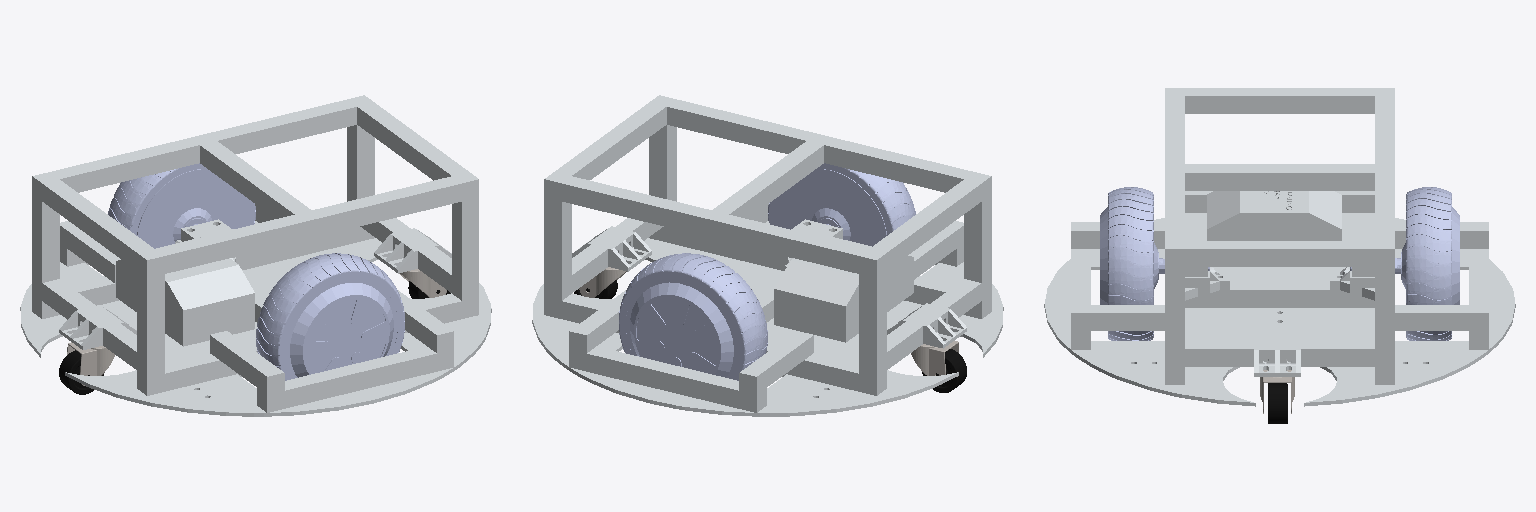
robot.urdf — modeloIsmo:
<?xml version="1.0" encoding="utf-8"?>
<!-- This URDF was automatically created by SolidWorks to URDF Exporter! Originally created by [author] ([email redacted]) 
     Commit Version: 1.6.0-4-g7f85cfe  Build Version: 1.6.7995.38578
     For more information, please see http://wiki.ros.org/sw_urdf_exporter -->
<robot
  name="modeloIsmo">
  <link
    name="base_link">
    <inertial>
      <origin
        xyz="-0.0176561649332988 -0.00119978537611564 0.0278893006013416"
        rpy="0 0 0" />
      <mass
        value="2.87613876945507" />
      <inertia
        ixx="0.0264142141588292"
        ixy="2.97958619881934E-08"
        ixz="-4.01911037621279E-08"
        iyy="0.0337096586279081"
        iyz="-0.000151931353131123"
        izz="0.0586642095498389" />
    </inertial>
    <visual>
      <origin
        xyz="0 0 0"
        rpy="0 0 0" />
      <geometry>
        <mesh
          filename="package://modeloIsmo/meshes/base_link.STL" />
      </geometry>
      <material
        name="">
        <color
          rgba="0.894117647058823 0.913725490196078 0.929411764705882 1" />
      </material>
    </visual>
    <collision>
      <origin
        xyz="0 0 0"
        rpy="0 0 0" />
      <geometry>
        <mesh
          filename="package://modeloIsmo/meshes/base_link.STL" />
      </geometry>
    </collision>
  </link>
  <link
    name="left_wheel">
    <inertial>
      <origin
        xyz="-3.14330033453561E-06 -6.5673863186063E-06 0.0291446115167832"
        rpy="0 0 0" />
      <mass
        value="0.958008205459542" />
      <inertia
        ixx="0.00158534602463517"
        ixy="1.36072608890669E-08"
        ixz="1.65486211393434E-07"
        iyy="0.00158536794192628"
        iyz="3.4575503784655E-07"
        izz="0.0027026878956097" />
    </inertial>
    <visual>
      <origin
        xyz="0 0 0"
        rpy="0 0 0" />
      <geometry>
        <mesh
          filename="package://modeloIsmo/meshes/left_wheel.STL" />
      </geometry>
      <material
        name="">
        <color
          rgba="0.792156862745098 0.819607843137255 0.933333333333333 1" />
      </material>
    </visual>
    <collision>
      <origin
        xyz="0 0 0"
        rpy="0 0 0" />
      <geometry>
        <mesh
          filename="package://modeloIsmo/meshes/left_wheel.STL" />
      </geometry>
    </collision>
  </link>
  <joint
    name="leftwheel_joint"
    type="continuous">
    <origin
      xyz="0 0.18 0.022"
      rpy="1.5708 0 0" />
    <parent
      link="base_link" />
    <child
      link="left_wheel" />
    <axis
      xyz="0 0 -1" />
    <limit
      effort="6.5"
      velocity="40" />
    <dynamics
      friction="0.1" />
  </joint>
  <link
    name="right_wheel">
    <inertial>
      <origin
        xyz="9.03817139394358E-08 -7.28029456295576E-06 -0.0291446514181855"
        rpy="0 0 0" />
      <mass
        value="0.95800858734738" />
      <inertia
        ixx="0.00158533951727554"
        ixy="-4.33732580157848E-10"
        ixz="4.75834716119835E-09"
        iyy="0.00158537444928592"
        iyz="-3.83287868957538E-07"
        izz="0.0027026878956097" />
    </inertial>
    <visual>
      <origin
        xyz="0 0 0"
        rpy="0 0 0" />
      <geometry>
        <mesh
          filename="package://modeloIsmo/meshes/right_wheel.STL" />
      </geometry>
      <material
        name="">
        <color
          rgba="0.792156862745098 0.819607843137255 0.933333333333333 1" />
      </material>
    </visual>
    <collision>
      <origin
        xyz="0 0 0"
        rpy="0 0 0" />
      <geometry>
        <mesh
          filename="package://modeloIsmo/meshes/right_wheel.STL" />
      </geometry>
    </collision>
  </link>
  <joint
    name="rightwheel_joint"
    type="continuous">
    <origin
      xyz="0 -0.18 0.022"
      rpy="1.5708 0 0" />
    <parent
      link="base_link" />
    <child
      link="right_wheel" />
    <axis
      xyz="0 0 -1" />
    <limit
      effort="6.5"
      velocity="40" />
    <dynamics
      friction="0.1" />
  </joint>
  <link
    name="front_caster">
    <inertial>
      <origin
        xyz="0.00719645182828996 5.27849148379703E-05 -0.0129869427741275"
        rpy="0 0 0" />
      <mass
        value="0.0345228972247051" />
      <inertia
        ixx="8.7256705327778E-06"
        ixy="1.6376475932055E-09"
        ixz="1.70393496562884E-06"
        iyy="8.4680866315482E-06"
        iyz="1.28132864003393E-08"
        izz="9.95030505700405E-06" />
    </inertial>
    <visual>
      <origin
        xyz="0 0 0"
        rpy="0 0 0" />
      <geometry>
        <mesh
          filename="package://modeloIsmo/meshes/front_caster.STL" />
      </geometry>
      <material
        name="">
        <color
          rgba="0.780392156862745 0.76078431372549 0.741176470588235 1" />
      </material>
    </visual>
    <collision>
      <origin
        xyz="0 0 0"
        rpy="0 0 0" />
      <geometry>
        <mesh
          filename="package://modeloIsmo/meshes/front_caster.STL" />
      </geometry>
    </collision>
  </link>
  <joint
    name="frontcaster_joint"
    type="continuous">
    <origin
      xyz="0.18128 -0.0025 -0.003"
      rpy="0 0 0" />
    <parent
      link="base_link" />
    <child
      link="front_caster" />
    <axis
      xyz="0 0 1" />
  </joint>
  <link
    name="front_caster_wheel">
    <inertial>
      <origin
        xyz="0 0 -1.30104260698261E-18"
        rpy="0 0 0" />
      <mass
        value="0.0241433930709178" />
      <inertia
        ixx="3.43879451958221E-06"
        ixy="3.8176800548973E-22"
        ixz="1.46535404494117E-08"
        iyy="3.4386872810978E-06"
        iyz="-4.2589068907916E-21"
        izz="5.44101180937204E-06" />
    </inertial>
    <visual>
      <origin
        xyz="0 0 0"
        rpy="0 0 0" />
      <geometry>
        <mesh
          filename="package://modeloIsmo/meshes/front_caster_wheel.STL" />
      </geometry>
      <material
        name="">
        <color
          rgba="0.109803921568627 0.109803921568627 0.109803921568627 1" />
      </material>
    </visual>
    <collision>
      <origin
        xyz="0 0 0"
        rpy="0 0 0" />
      <geometry>
        <mesh
          filename="package://modeloIsmo/meshes/front_caster_wheel.STL" />
      </geometry>
    </collision>
  </link>
  <joint
    name="frontcasterwheel_joint"
    type="continuous">
    <origin
      xyz="0.019933 0.00014587 -0.0335"
      rpy="1.5708 0 0" />
    <parent
      link="front_caster" />
    <child
      link="front_caster_wheel" />
    <axis
      xyz="0.0073181 0 0.99997" />
    <dynamics
      friction="0.1" />
  </joint>
  <link
    name="back_caster">
    <inertial>
      <origin
        xyz="-0.00719637451878957 6.26008290069229E-05 -0.012986943563235"
        rpy="0 0 0" />
      <mass
        value="0.0345228978243338" />
      <inertia
        ixx="8.72565670210285E-06"
        ixy="-2.49113210026529E-09"
        ixz="-1.70392265602734E-06"
        iyy="8.46810352891275E-06"
        iyz="1.45080704401869E-08"
        izz="9.95030487155889E-06" />
    </inertial>
    <visual>
      <origin
        xyz="0 0 0"
        rpy="0 0 0" />
      <geometry>
        <mesh
          filename="package://modeloIsmo/meshes/back_caster.STL" />
      </geometry>
      <material
        name="">
        <color
          rgba="0.780392156862745 0.76078431372549 0.741176470588235 1" />
      </material>
    </visual>
    <collision>
      <origin
        xyz="0 0 0"
        rpy="0 0 0" />
      <geometry>
        <mesh
          filename="package://modeloIsmo/meshes/back_caster.STL" />
      </geometry>
    </collision>
  </link>
  <joint
    name="backcaster_joint"
    type="continuous">
    <origin
      xyz="-0.18278 -0.0025 -0.003"
      rpy="0 0 0" />
    <parent
      link="base_link" />
    <child
      link="back_caster" />
    <axis
      xyz="0 0 1" />
  </joint>
  <link
    name="back_caster_wheel">
    <inertial>
      <origin
        xyz="0 -6.93889390390723E-18 0"
        rpy="0 0 0" />
      <mass
        value="0.0241433930709178" />
      <inertia
        ixx="3.43883937316653E-06"
        ixy="-9.60713764555437E-23"
        ixz="-1.74508125282442E-08"
        iyy="3.4386872810978E-06"
        iyz="2.07092733514153E-21"
        izz="5.44096695578772E-06" />
    </inertial>
    <visual>
      <origin
        xyz="0 0 0"
        rpy="0 0 0" />
      <geometry>
        <mesh
          filename="package://modeloIsmo/meshes/back_caster_wheel.STL" />
      </geometry>
      <material
        name="">
        <color
          rgba="0.109803921568627 0.109803921568627 0.109803921568627 1" />
      </material>
    </visual>
    <collision>
      <origin
        xyz="0 0 0"
        rpy="0 0 0" />
      <geometry>
        <mesh
          filename="package://modeloIsmo/meshes/back_caster_wheel.STL" />
      </geometry>
    </collision>
  </link>
  <joint
    name="backcasterwheel_joint"
    type="continuous">
    <origin
      xyz="-0.019933 0.00017372 -0.0335"
      rpy="1.5708 0 0" />
    <parent
      link="back_caster" />
    <child
      link="back_caster_wheel" />
    <axis
      xyz="0.0087151 0 -0.99996" />
    <dynamics
      friction="0.1" />
  </joint>


  <!-- Pluggin for simulating the Diferential Traction -->
  <gazebo>
    <plugin name="diff_drive" filename="libgazebo_ros_diff_drive.so">
 
      <updateRate>100</updateRate>
      
      <!-- wheels -->
      <leftJoint>leftwheel_joint</leftJoint>
      <rightJoint>rightwheel_joint</rightJoint>
 
      <!-- kinematics in m-->
      <wheelSeparation>0.252</wheelSeparation>
      <wheelDiameter>0.165</wheelDiameter>
 
      <!-- limits in NM & rad/s^2-->
      <wheelTorque>10</wheelTorque>
      <wheelAcceleration>10.0</wheelAcceleration>
 
      <!-- Receive velocity commands on this ROS topic -->
      <commandTopic>cmd_vel</commandTopic>

 
      <!-- output -->
      <!-- When false, publish no wheel odometry data to a ROS topic -->
      <publishOdom>true</publishOdom>
      
 
      <!-- When true, publish coordinate transform from odom to base_footprint -->
      <!-- I usually use the robot_localization package to publish this transform -->  
      <publish_odom_tf>true</publish_odom_tf>
     
      <!-- When true, publish coordinate transform from base_link to the wheels -->
      <!-- The robot_state_publisher package is often used to publish this transform -->  
      <publishWheelTF>true</publishWheelTF>

      <robotBaseFrame>base_link</robotBaseFrame>
 
      <odometryTopic>odom</odometryTopic>
      <odometryFrame>odom_link</odometryFrame>
      
 
    </plugin>
  </gazebo>


</robot>

--- Facts derived from the render (not from the file) ---
Views: 3 orthographic renders of the robot side by side, from view 1: azimuth 30°, elevation 25°; view 2: azimuth 150°, elevation 25°; view 3: azimuth 270°, elevation 25°.
Robot: modeloIsmo — 7 links, 6 joints (6 continuous); root link base_link; default pose: all joints at 0.
Links seen in each view (by area): view 1: base_link, right_wheel, left_wheel, back_caster, back_caster_wheel, front_caster; view 2: base_link, left_wheel, right_wheel, back_caster, back_caster_wheel, front_caster; view 3: base_link, right_wheel, left_wheel, front_caster_wheel.
Boxes of the visible links, x1,y1,x2,y2 form: base_link: [20, 95, 491, 416]; right_wheel: [256, 253, 404, 380]; left_wheel: [108, 163, 255, 248]; back_caster: [67, 342, 114, 386]; back_caster_wheel: [59, 350, 103, 394]; front_caster: [399, 269, 446, 297]; base_link: [532, 95, 1003, 416]; left_wheel: [619, 253, 767, 380]; right_wheel: [768, 163, 915, 246]; back_caster: [911, 341, 958, 384]; back_caster_wheel: [922, 349, 966, 392]; front_caster: [579, 267, 626, 297]; base_link: [1044, 88, 1515, 406]; right_wheel: [1100, 187, 1209, 340]; left_wheel: [1350, 187, 1459, 340]; front_caster_wheel: [1268, 383, 1287, 423].
Size in the robot's own frame: 0.47 by 0.4724 by 0.1874 metres.
Meshes: 7 distinct files referenced, 7 mesh visuals loaded (7 binary STL).
